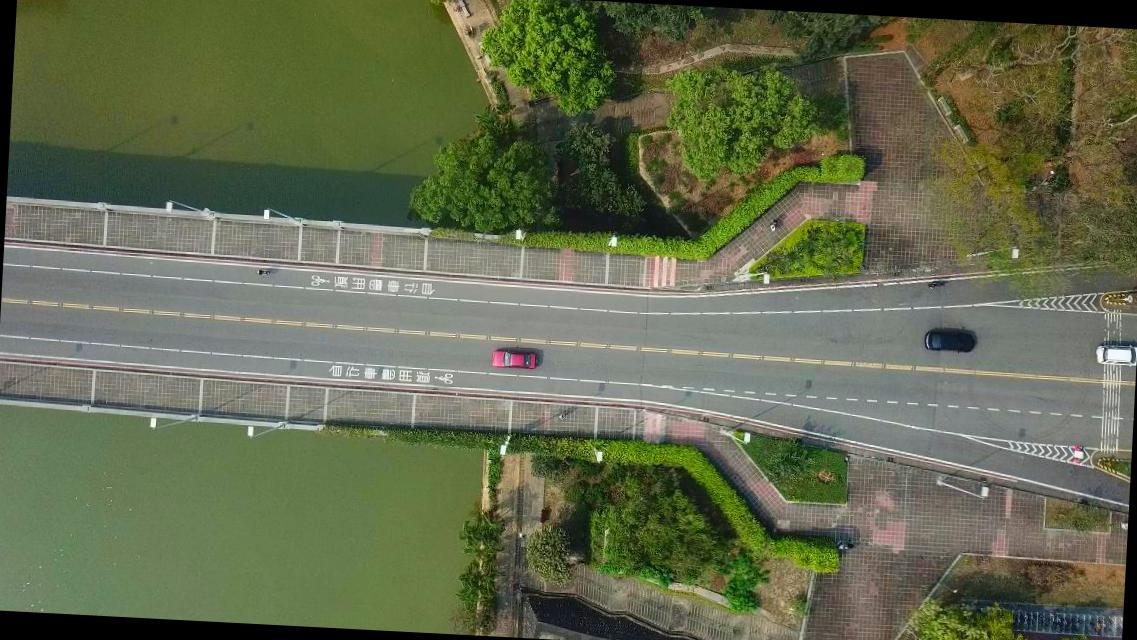vehicle: (923, 329, 974, 354), (1094, 342, 1136, 368), (490, 349, 536, 370)
